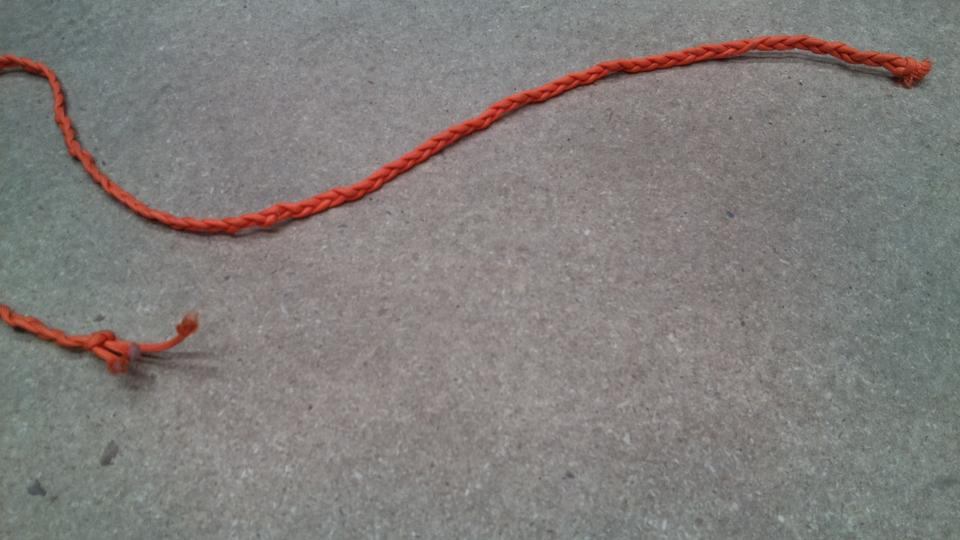rope: (1, 31, 935, 381)
